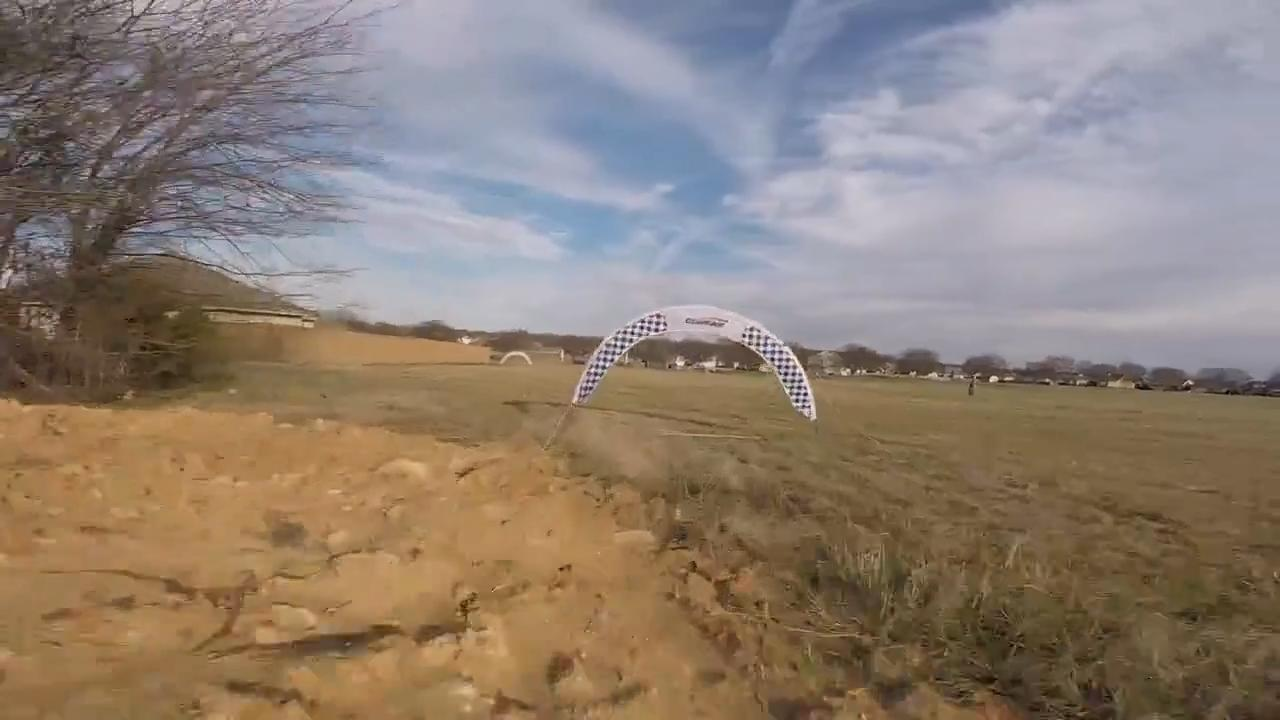gate: (572, 304, 821, 428)
